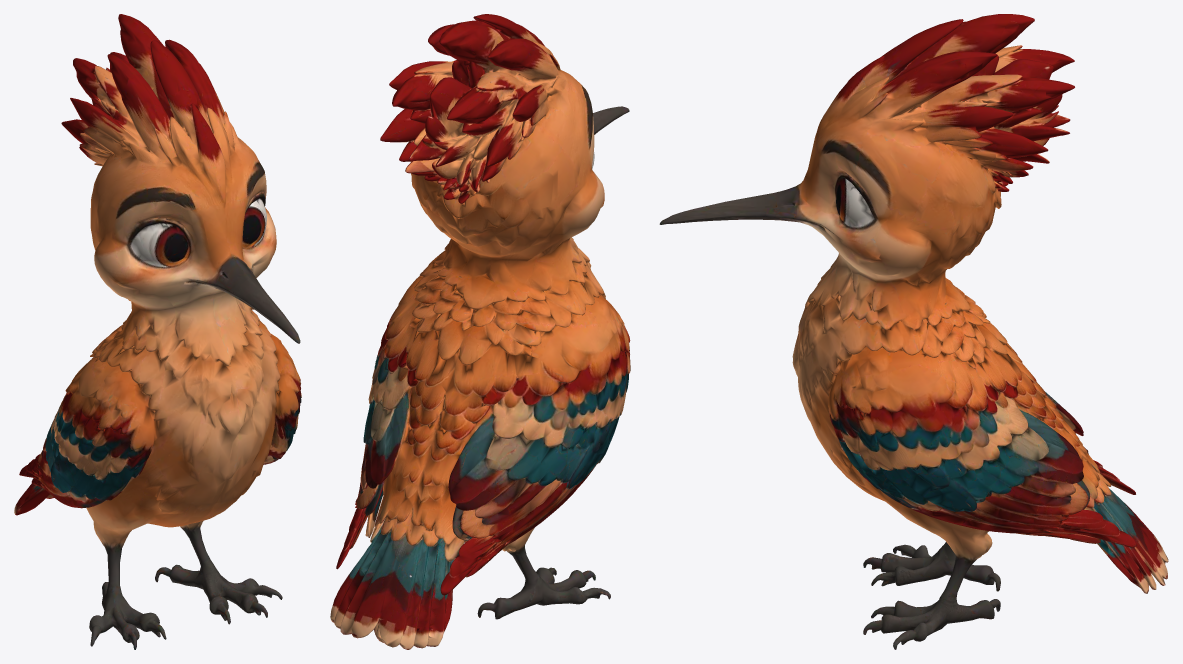
File: hoopoe.glb
3 views of the same model, side by side, from view 1: azimuth 30°, elevation 25°; view 2: azimuth 150°, elevation 25°; view 3: azimuth 270°, elevation 25° (orthographic). The views are drawn at different scales.
Size of the model in its own units: 0.7574 by 1.9 by 1.49.
Materials: 1 (1 with a texture image).
